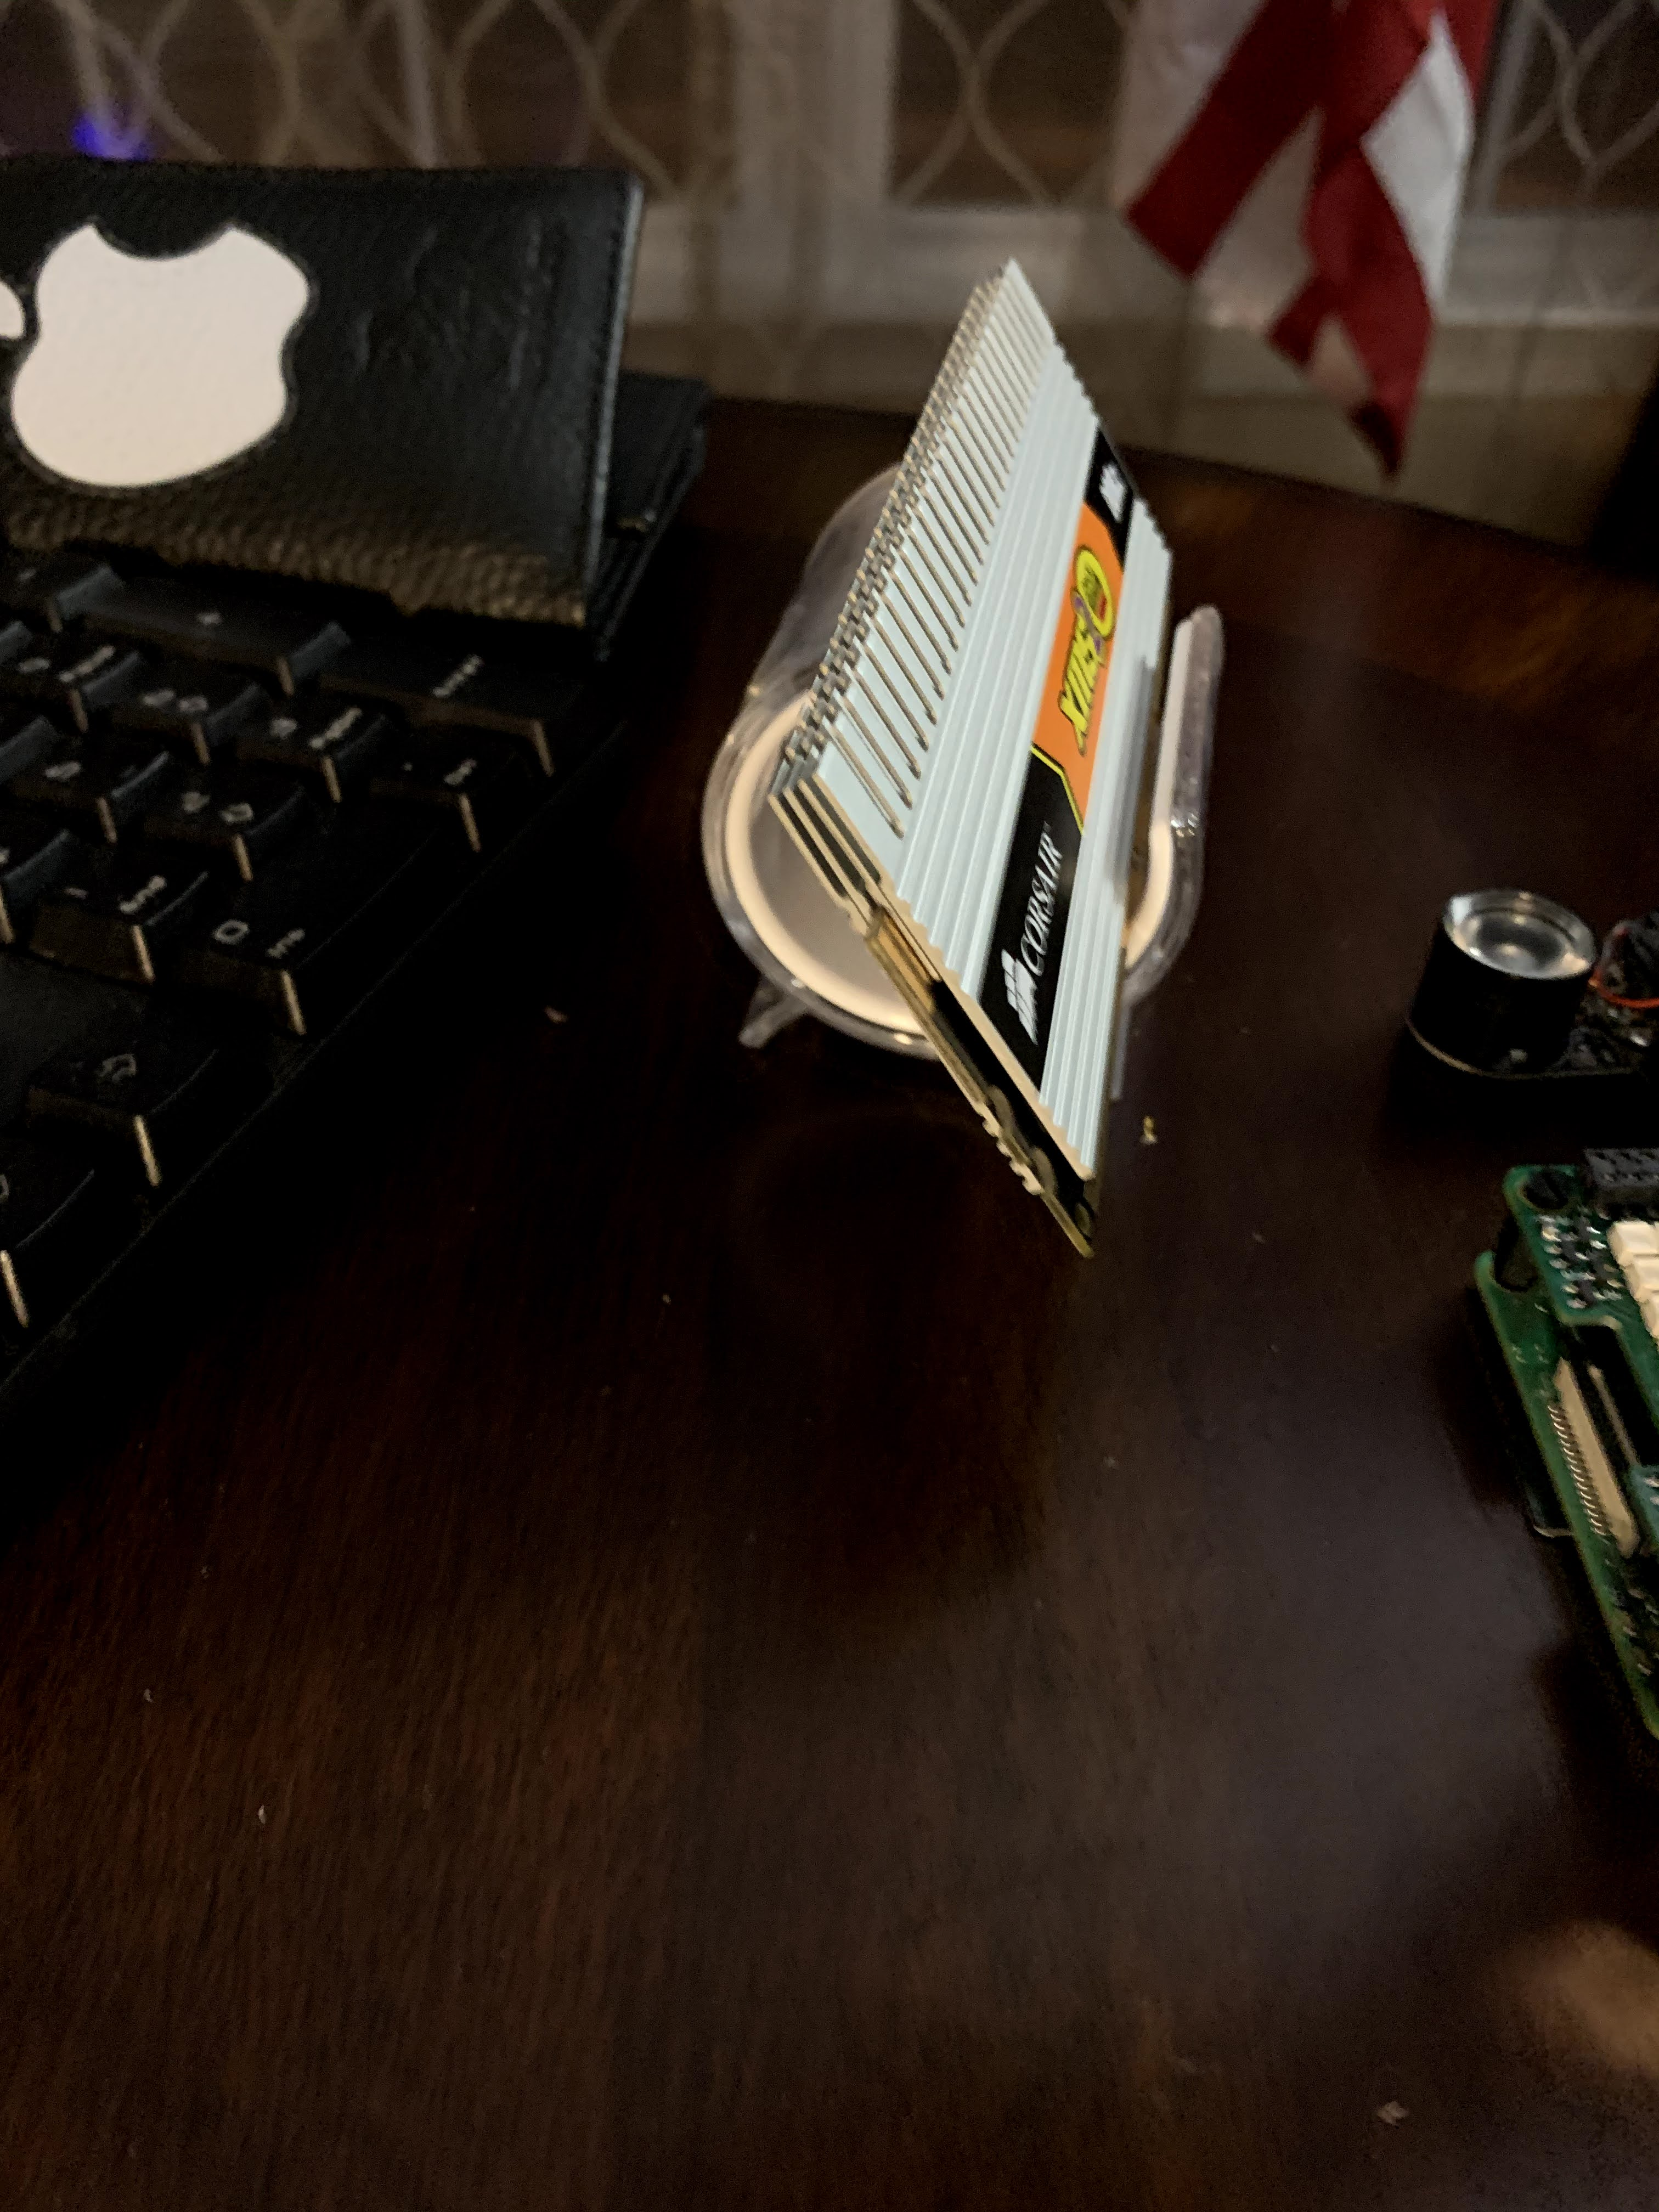Space-debris-medium: (812, 216, 1190, 1285)
